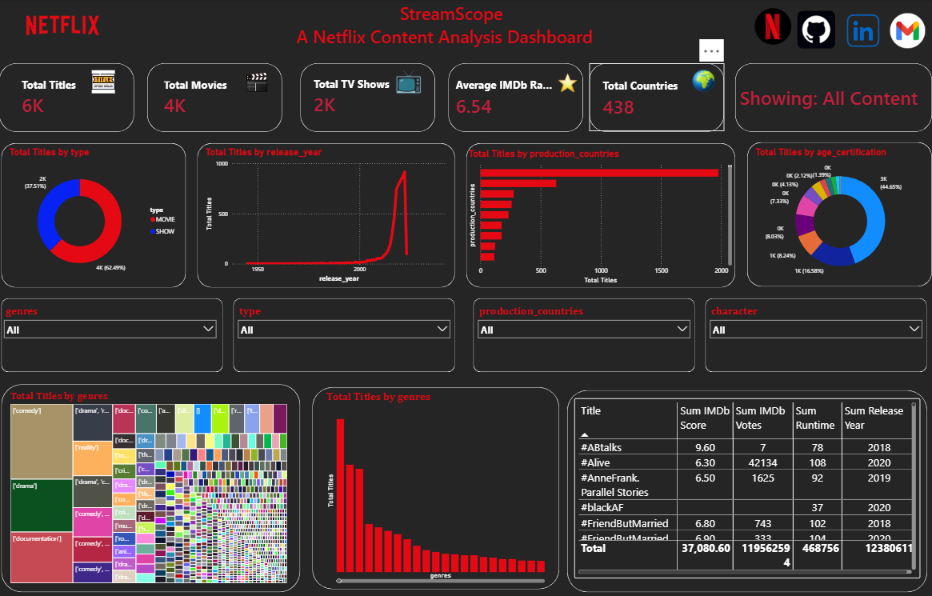

The page's visual inventory and layout, read from the dashboard file:
{"tool":"powerbi","page":{"name":"Page 1","canvas":[2000,1280],"ordinal":0},"visuals":[{"type":"textbox","box":[621.1,0,676.4,110.6],"z":0},{"type":"image","box":[0,0,267.3,110.6],"z":1000},{"type":"shape","box":[0,136.4,289.4,147.5],"z":2000},{"type":"cardVisual","fields":{"Data":["titles.Total Titles"]},"box":[20.3,153,184.3,114.3],"z":3000},{"type":"cardVisual","fields":{"Data":["titles.Total Movies"]},"box":[324.4,158.5,200.9,103.2],"z":4000},{"type":"shape","box":[1577.8,136.4,422.1,147.5],"z":5000},{"type":"cardVisual","fields":{"Data":["titles.Total TV Shows"]},"box":[645.1,151.1,232.2,116.1],"z":6000},{"type":"cardVisual","fields":{"Data":["titles.Showing Text"]},"box":[1559.3,165.9,440.5,88.5],"z":7000},{"type":"cardVisual","fields":{"Data":["titles.Average IMDb Rating"]},"box":[949.2,141.9,269.1,138.2],"z":8000},{"type":"cardVisual","fields":{"Data":["titles.Total Countries"]},"box":[1266.3,158.5,219.3,108.7],"z":9000},{"type":"image","box":[180.6,153,86.6,49.8],"z":10000},{"type":"image","box":[512.4,143.8,81.1,68.2],"z":11000},{"type":"image","box":[840.5,147.5,73.7,55.3],"z":12000},{"type":"image","box":[1179.6,158.5,79.3,40.5],"z":13000},{"type":"image","box":[1470.9,147.5,79.3,55.3],"z":14000},{"type":"shape","box":[3.7,309.7,396.3,309.7],"z":15000},{"type":"donutChart","fields":{"Category":["titles.type"],"Y":["titles.Total Titles"]},"box":[16.6,315.2,374.2,298.6],"z":16000},{"type":"shape","box":[317,136.4,289.4,147.5],"z":17000},{"type":"shape","box":[645.1,136.4,289.4,147.5],"z":18000},{"type":"shape","box":[964,136.4,289.4,147.5],"z":19000},{"type":"shape","box":[1266.3,136.4,289.4,147.5],"z":20000},{"type":"shape","box":[1603.6,306,396.3,309.7],"z":21000},{"type":"shape","box":[1000.8,309.7,576.9,309.7],"z":22000},{"type":"shape","box":[423.9,309.7,553,309.7],"z":23000},{"type":"lineChart","fields":{"Category":["titles.release_year"],"Y":["titles.Total Titles"]},"box":[436.8,315.2,529,298.6],"z":24000},{"type":"clusteredBarChart","fields":{"Category":["titles.production_countries"],"Y":["titles.Total Titles"]},"box":[1002.7,318.9,575.1,296.8],"z":25000},{"type":"donutChart","fields":{"Y":["titles.Total Titles"],"Category":["titles.age_certification"]},"box":[1616.5,315.2,374.2,298.6],"z":26000},{"type":"shape","box":[3.7,641.4,475.5,158.5],"z":27000},{"type":"shape","box":[501.3,641.4,475.5,158.5],"z":28000},{"type":"shape","box":[1015.6,641.4,475.5,158.5],"z":29000},{"type":"shape","box":[1515.1,641.4,475.5,158.5],"z":30000},{"type":"slicer","fields":{"Values":["titles.genres"]},"box":[0,650.6,475.5,140.1],"z":31000},{"type":"slicer","fields":{"Values":["credits.character"]},"box":[1515.1,650.6,475.5,140.1],"z":32000},{"type":"slicer","fields":{"Values":["titles.type"]},"box":[501.3,650.6,475.5,140.1],"z":33000},{"type":"slicer","fields":{"Values":["titles.production_countries"]},"box":[1015.6,650.6,475.5,140.1],"z":34000},{"type":"image","box":[1603.6,0,110.6,116.1],"z":35000},{"type":"image","box":[1693.9,18.4,116.1,92.2],"z":36000},{"type":"image","box":[1907.7,29.5,82.9,75.6],"z":37000},{"type":"image","box":[1797.1,22.1,110.6,92.2],"z":38000},{"type":"shape","box":[4.3,825.7,641.3,446.1],"z":39000},{"type":"treemap","fields":{"Group":["titles.genres"],"Values":["titles.Total Titles"]},"box":[19.3,838.6,602.7,418.2],"z":40000},{"type":"columnChart","fields":{"Category":["titles.genres"],"Y":["titles.Total Titles"]},"box":[697.1,838.6,478.3,418.2],"z":41000},{"type":"shape","box":[671.3,832.2,529.8,433.2],"z":42000},{"type":"shape","box":[1218.2,838.6,772.1,433.2],"z":43000},{"type":"tableEx","fields":{"Values":["titles.title","titles.Sum IMDb Score","titles.Sum IMDb Votes","titles.Sum Runtime","titles.Sum Release Year"]},"box":[1233.3,855.8,742.1,386.1],"z":44000}]}

Visuals, with their boxes in screenshot pixels (x1, y1, x2, y2), scaled from the page's 2000x1280 canvas onto the 932x596 screenshot:
textbox: {"left": 289, "top": 0, "right": 605, "bottom": 51}
image: {"left": 0, "top": 0, "right": 125, "bottom": 51}
shape: {"left": 0, "top": 64, "right": 135, "bottom": 132}
cardVisual - titles.Total Titles: {"left": 9, "top": 71, "right": 95, "bottom": 124}
cardVisual - titles.Total Movies: {"left": 151, "top": 74, "right": 245, "bottom": 122}
shape: {"left": 735, "top": 64, "right": 931, "bottom": 132}
cardVisual - titles.Total TV Shows: {"left": 301, "top": 70, "right": 409, "bottom": 124}
cardVisual - titles.Showing Text: {"left": 727, "top": 77, "right": 931, "bottom": 118}
cardVisual - titles.Average IMDb Rating: {"left": 442, "top": 66, "right": 568, "bottom": 130}
cardVisual - titles.Total Countries: {"left": 590, "top": 74, "right": 692, "bottom": 124}
image: {"left": 84, "top": 71, "right": 125, "bottom": 94}
image: {"left": 239, "top": 67, "right": 277, "bottom": 99}
image: {"left": 392, "top": 69, "right": 426, "bottom": 94}
image: {"left": 550, "top": 74, "right": 587, "bottom": 93}
image: {"left": 685, "top": 69, "right": 722, "bottom": 94}
shape: {"left": 2, "top": 144, "right": 186, "bottom": 288}
donutChart - titles.type x titles.Total Titles: {"left": 8, "top": 147, "right": 182, "bottom": 286}
shape: {"left": 148, "top": 64, "right": 283, "bottom": 132}
shape: {"left": 301, "top": 64, "right": 435, "bottom": 132}
shape: {"left": 449, "top": 64, "right": 584, "bottom": 132}
shape: {"left": 590, "top": 64, "right": 725, "bottom": 132}
shape: {"left": 747, "top": 142, "right": 931, "bottom": 287}
shape: {"left": 466, "top": 144, "right": 735, "bottom": 288}
shape: {"left": 198, "top": 144, "right": 455, "bottom": 288}
lineChart - titles.release_year x titles.Total Titles: {"left": 204, "top": 147, "right": 450, "bottom": 286}
clusteredBarChart - titles.production_countries x titles.Total Titles: {"left": 467, "top": 148, "right": 735, "bottom": 287}
donutChart - titles.Total Titles x titles.age_certification: {"left": 753, "top": 147, "right": 928, "bottom": 286}
shape: {"left": 2, "top": 299, "right": 223, "bottom": 372}
shape: {"left": 234, "top": 299, "right": 455, "bottom": 372}
shape: {"left": 473, "top": 299, "right": 695, "bottom": 372}
shape: {"left": 706, "top": 299, "right": 928, "bottom": 372}
slicer - titles.genres: {"left": 0, "top": 303, "right": 222, "bottom": 368}
slicer - credits.character: {"left": 706, "top": 303, "right": 928, "bottom": 368}
slicer - titles.type: {"left": 234, "top": 303, "right": 455, "bottom": 368}
slicer - titles.production_countries: {"left": 473, "top": 303, "right": 695, "bottom": 368}
image: {"left": 747, "top": 0, "right": 799, "bottom": 54}
image: {"left": 789, "top": 9, "right": 843, "bottom": 51}
image: {"left": 889, "top": 14, "right": 928, "bottom": 49}
image: {"left": 837, "top": 10, "right": 889, "bottom": 53}
shape: {"left": 2, "top": 384, "right": 301, "bottom": 592}
treemap - titles.genres x titles.Total Titles: {"left": 9, "top": 390, "right": 290, "bottom": 585}
columnChart - titles.genres x titles.Total Titles: {"left": 325, "top": 390, "right": 548, "bottom": 585}
shape: {"left": 313, "top": 387, "right": 560, "bottom": 589}
shape: {"left": 568, "top": 390, "right": 927, "bottom": 592}
tableEx - titles.title x titles.Sum IMDb Score: {"left": 575, "top": 398, "right": 921, "bottom": 578}
